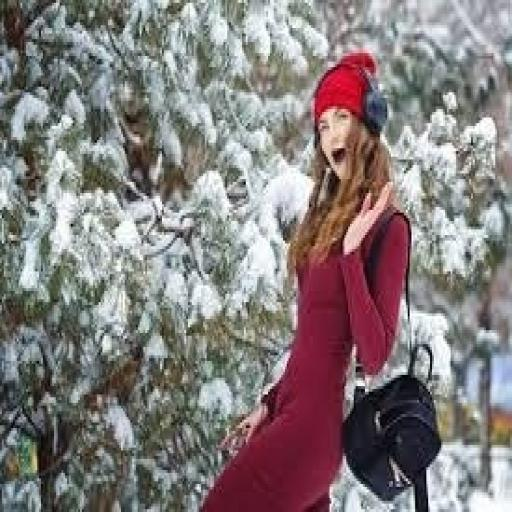listening_to_music: (198, 48, 414, 509)
